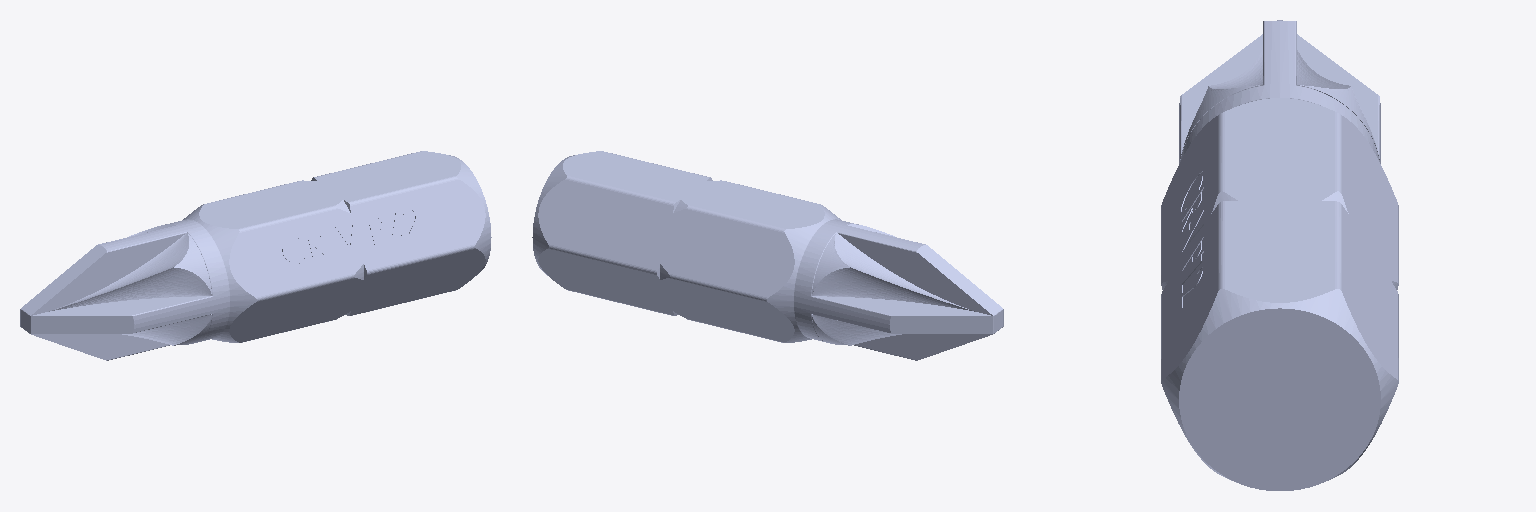
The robot description file, URDF, robot "ScrewdriverBit(PZ2)":
<robot
  name="ScrewdriverBit(PZ2)">
  <link
    name="ScrewdriverBit(PZ2)">
    <inertial>
      <origin
        xyz="0 0 0"
        rpy="0 0 0" />
      <mass
        value="0" />
      <inertia
        ixx="0"
        ixy="0"
        ixz="0"
        iyy="0"
        iyz="0"
        izz="0" />
    </inertial>
    <visual>
      <origin
        xyz="0 0 0"
        rpy="1.5707963267949 0 0" />
      <geometry>
        <mesh
          filename="package://ScrewdriverBit(PZ2)/meshes/ScrewdriverBit(PZ2).STL" />
      </geometry>
      <material
        name="">
        <color
          rgba="0.79216 0.81961 0.93333 1" />
      </material>
    </visual>
    <collision>
      <origin
        xyz="0 0 0"
        rpy="1.5707963267949 0 0" />
      <geometry>
        <mesh
          filename="package://ScrewdriverBit(PZ2)/meshes/ScrewdriverBit(PZ2).STL" />
      </geometry>
    </collision>
  </link>
</robot>

--- Facts derived from the render (not from the file) ---
Views: 3 orthographic renders of the robot side by side, from view 1: azimuth 30°, elevation 25°; view 2: azimuth 150°, elevation 25°; view 3: azimuth 270°, elevation 25°.
Model ScrewdriverBit(PZ2) with 1 links and 0 joints (none), rooted at ScrewdriverBit(PZ2), posed all joints at 0.
Links seen in each view (by area): view 1: ScrewdriverBit(PZ2); view 2: ScrewdriverBit(PZ2); view 3: ScrewdriverBit(PZ2).
Boxes of the visible links, <box> form: ScrewdriverBit(PZ2): <box>20,151,491,360</box>; ScrewdriverBit(PZ2): <box>532,151,1003,360</box>; ScrewdriverBit(PZ2): <box>1161,20,1398,490</box>.
Bounding box of the posed robot: 0.025 × 0.0071 × 0.0063 m (x, y, z).
1 mesh visuals loaded from 1 distinct referenced files (1 binary STL).